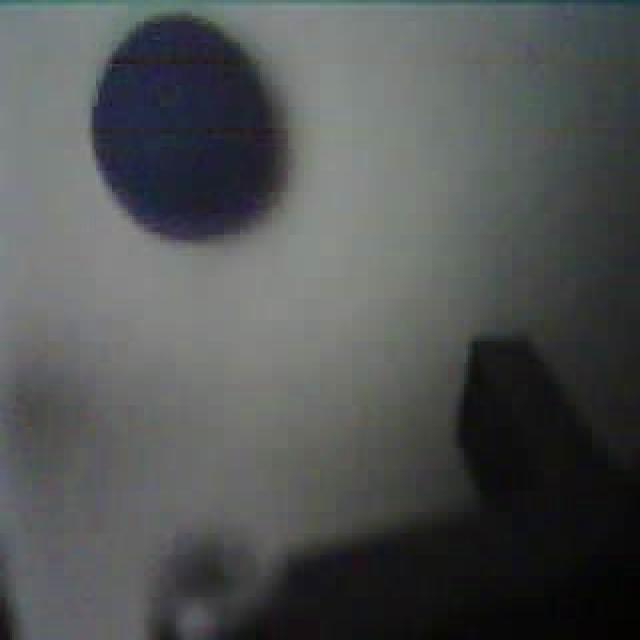blue_ball: (88, 8, 292, 245)
